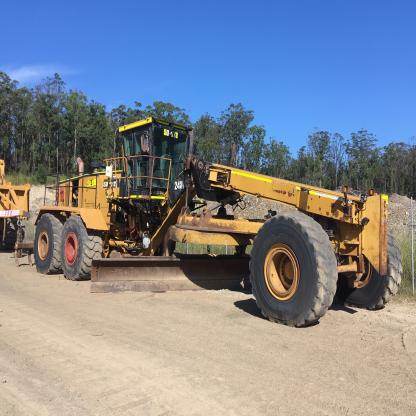bull_dozer/loader/grader: (29, 102, 401, 332)
